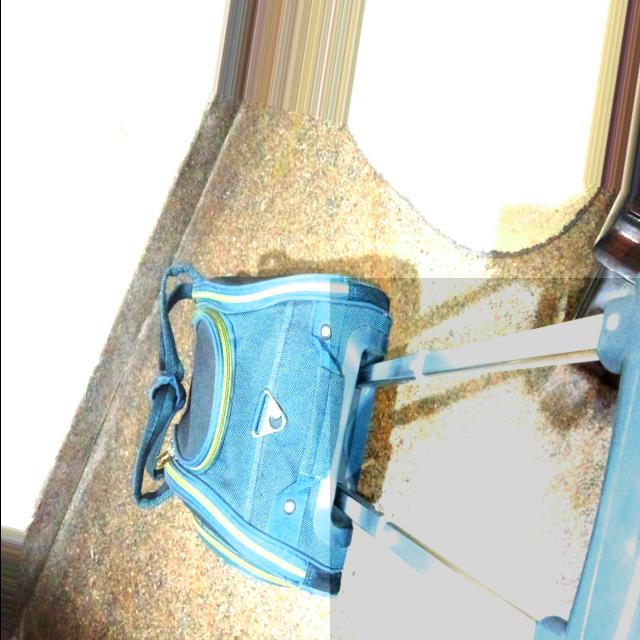Bag: (116, 257, 640, 640)
Handle: (336, 291, 640, 637)
